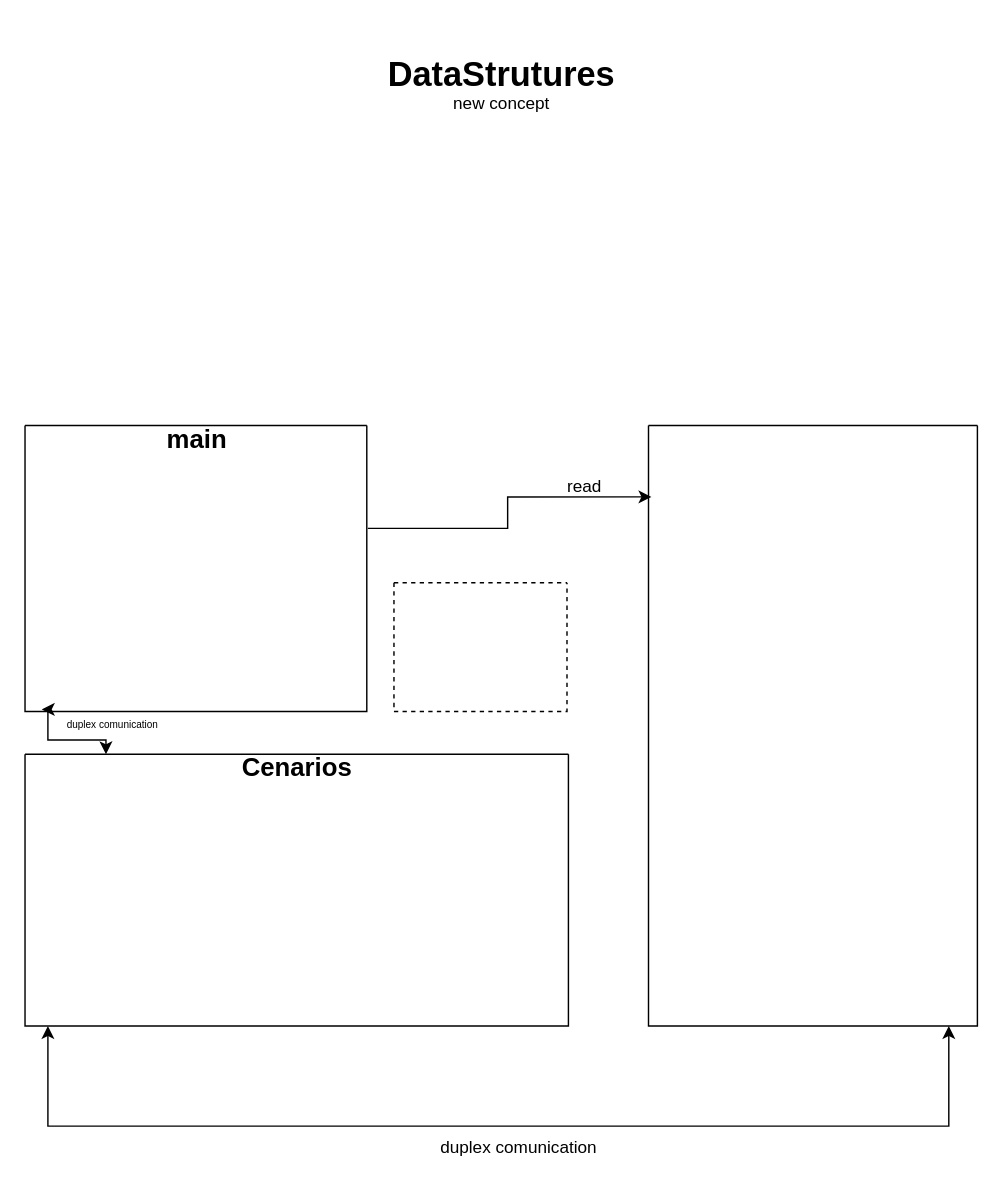
The diagram is 1002 pixels wide and 1193 high, and some of its shapes have lost their labels. Here are the shapes that lost their labels. From the top down, the centre of each, then its label:
(x=480, y=646): gph/interface
(x=812, y=725): Estruturas
